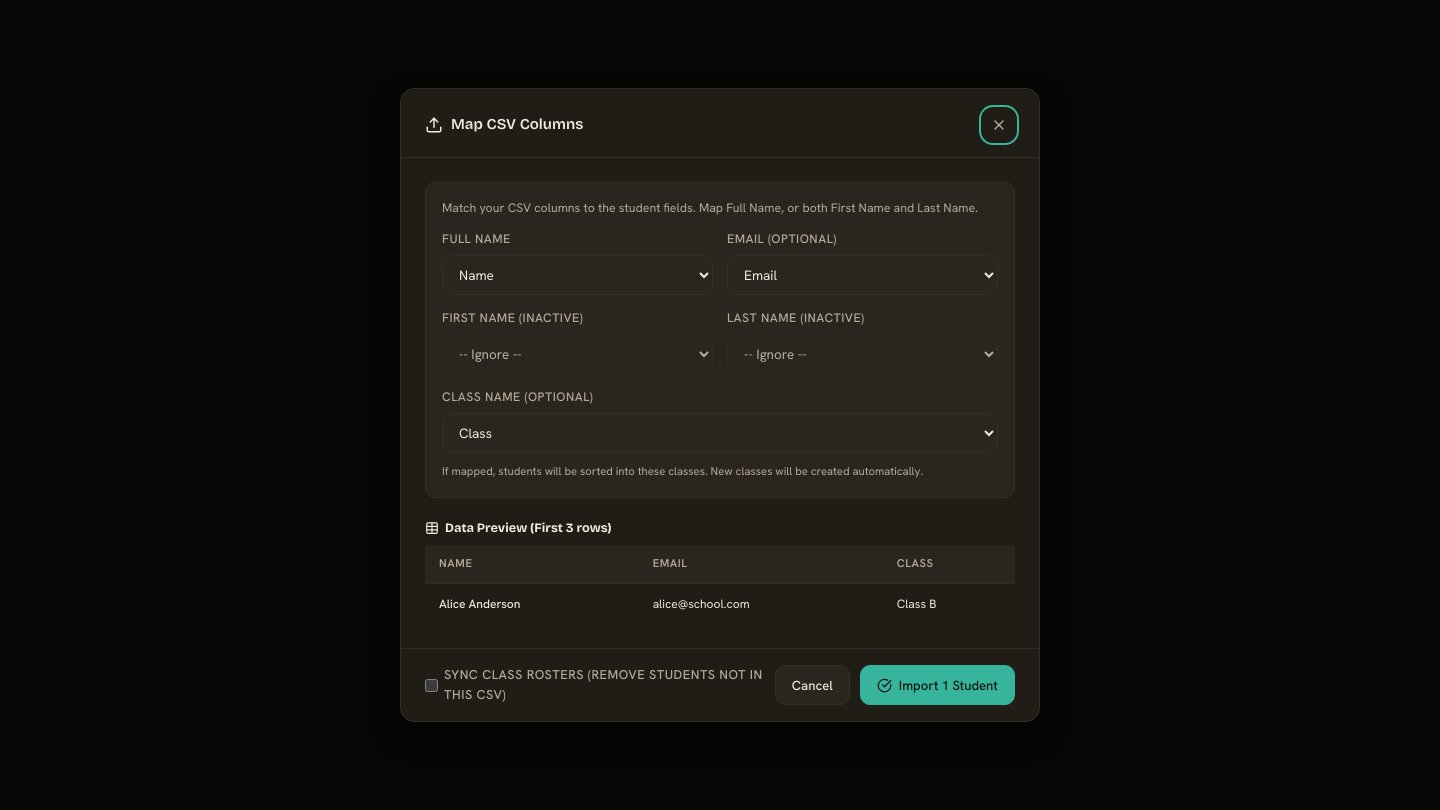
Scenario: CsvImportModal › transfers a student to a new class when matched by email
The image size is (1440, 810).
Step 1. Click the button "Import 1 Student" → [937, 685], box [860,666,1015,705]
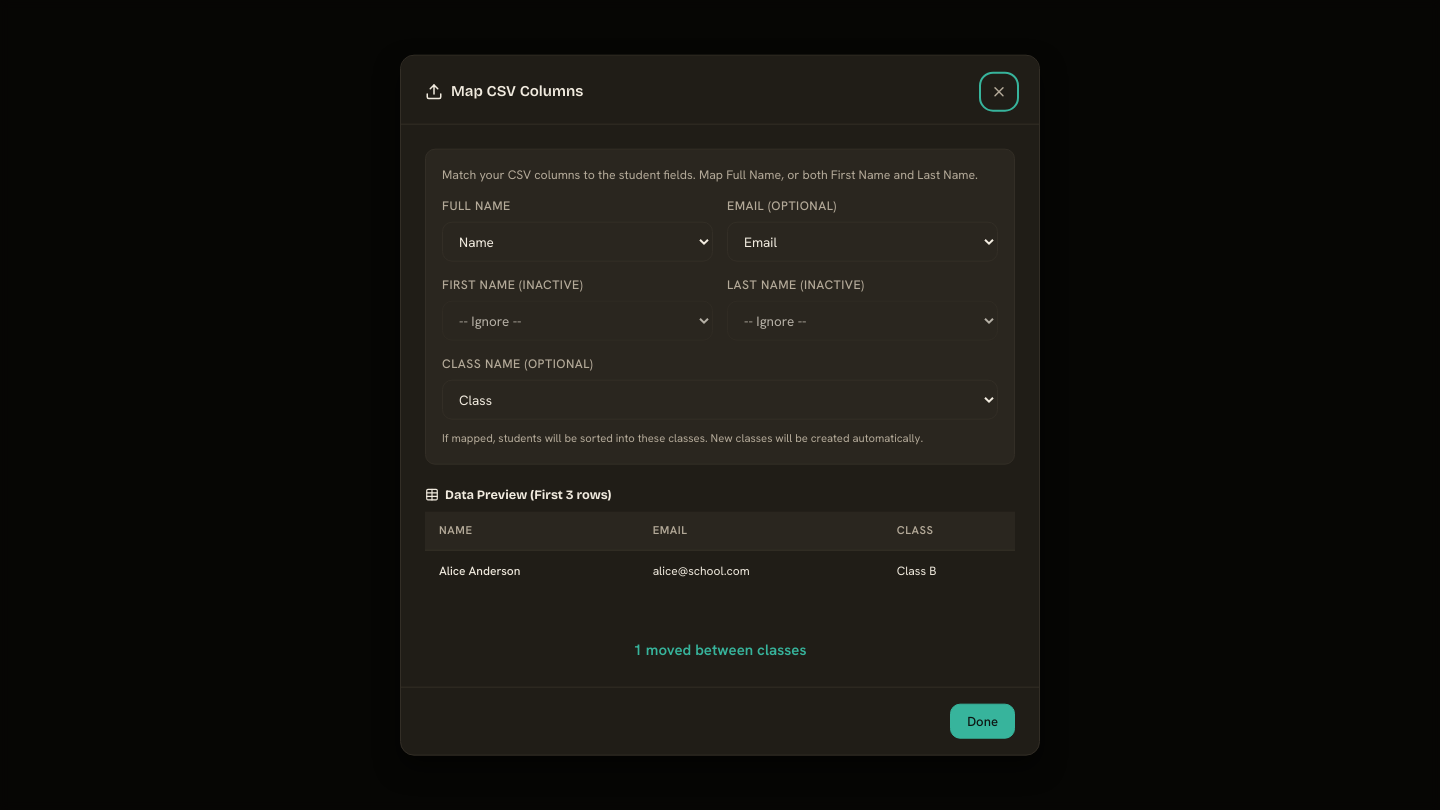
Expected: the text "1 moved between classes" is shown, [634,639,806,662]
